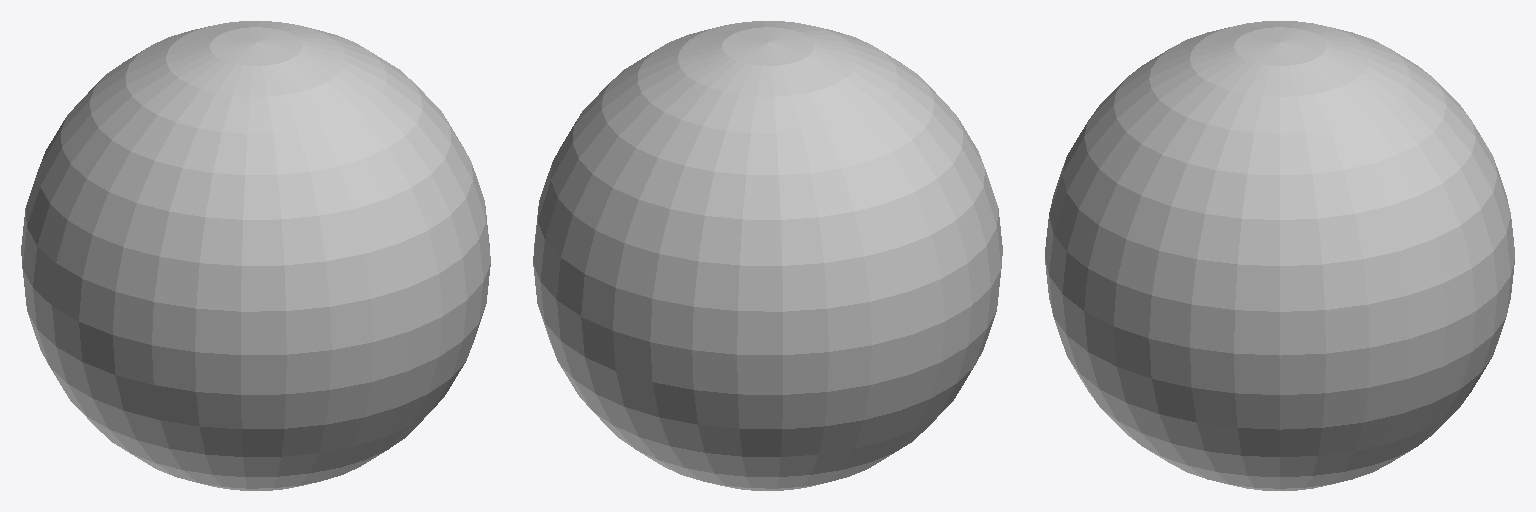
File: saturn.obj
3 renders of one model, left to right at view 1: azimuth 30°, elevation 25°; view 2: azimuth 150°, elevation 25°; view 3: azimuth 270°, elevation 25°, orthographic.
Visible parts, largest first — view 1: Sphere.007; view 2: Sphere.007; view 3: Sphere.007.
Part boxes in pixels (left/top/right/bottom): Sphere.007: left=21, top=21, right=490, bottom=490; Sphere.007: left=533, top=21, right=1002, bottom=490; Sphere.007: left=1045, top=21, right=1514, bottom=490.
Bounding box in the file's own units: 16.4 × 16.4 × 16.4.